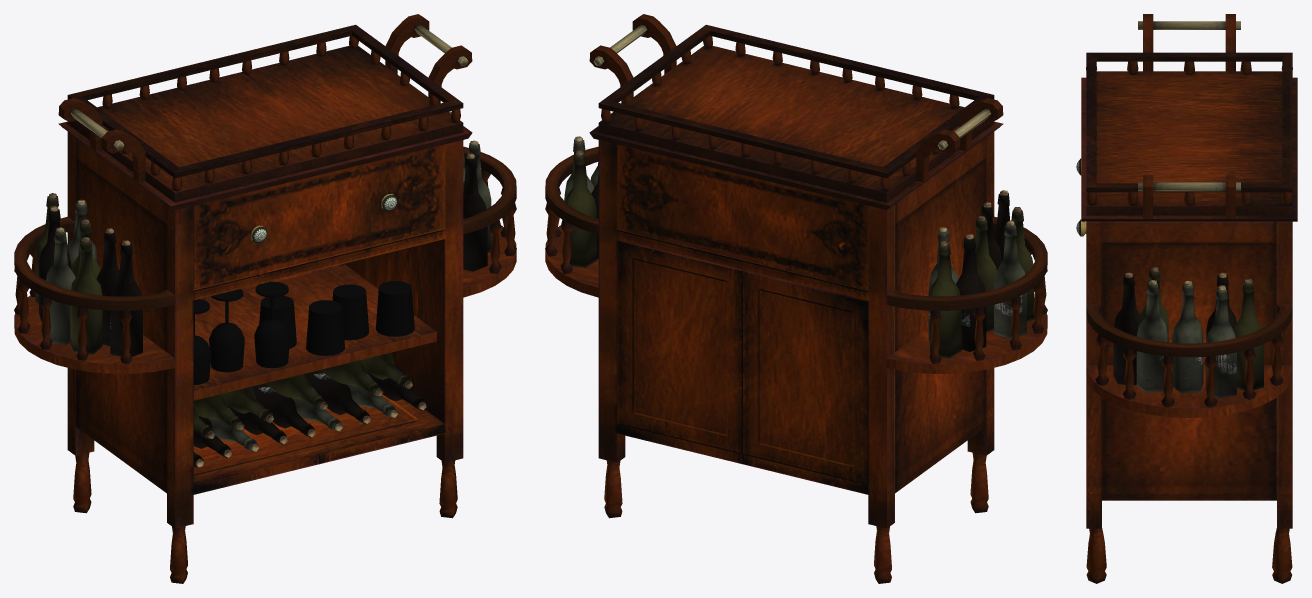
Rendered from drinkscab.DAE.
3 renders of one model, left to right at view 1: azimuth 30°, elevation 25°; view 2: azimuth 150°, elevation 25°; view 3: azimuth 270°, elevation 25°, orthographic. The views are drawn at different scales.
Parts seen in each view (by area): view 1: cabinet, wine_bottles, drawer, glasses; view 2: cabinet, wine_bottles; view 3: cabinet, wine_bottles.
Part boxes in pixels (x1,y1,x2,y2): cabinet: [14, 14, 516, 583]; wine_bottles: [35, 111, 491, 467]; drawer: [193, 144, 444, 290]; glasses: [193, 281, 414, 384]; cabinet: [545, 14, 1047, 583]; wine_bottles: [564, 136, 1034, 358]; cabinet: [1081, 14, 1297, 583]; wine_bottles: [1113, 267, 1263, 398].
Bounding box in the file's own units: 1.67 × 1.48 × 0.7053.
